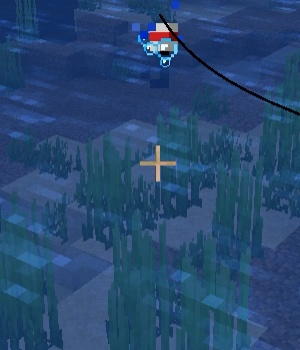up: (140, 18, 181, 88)
